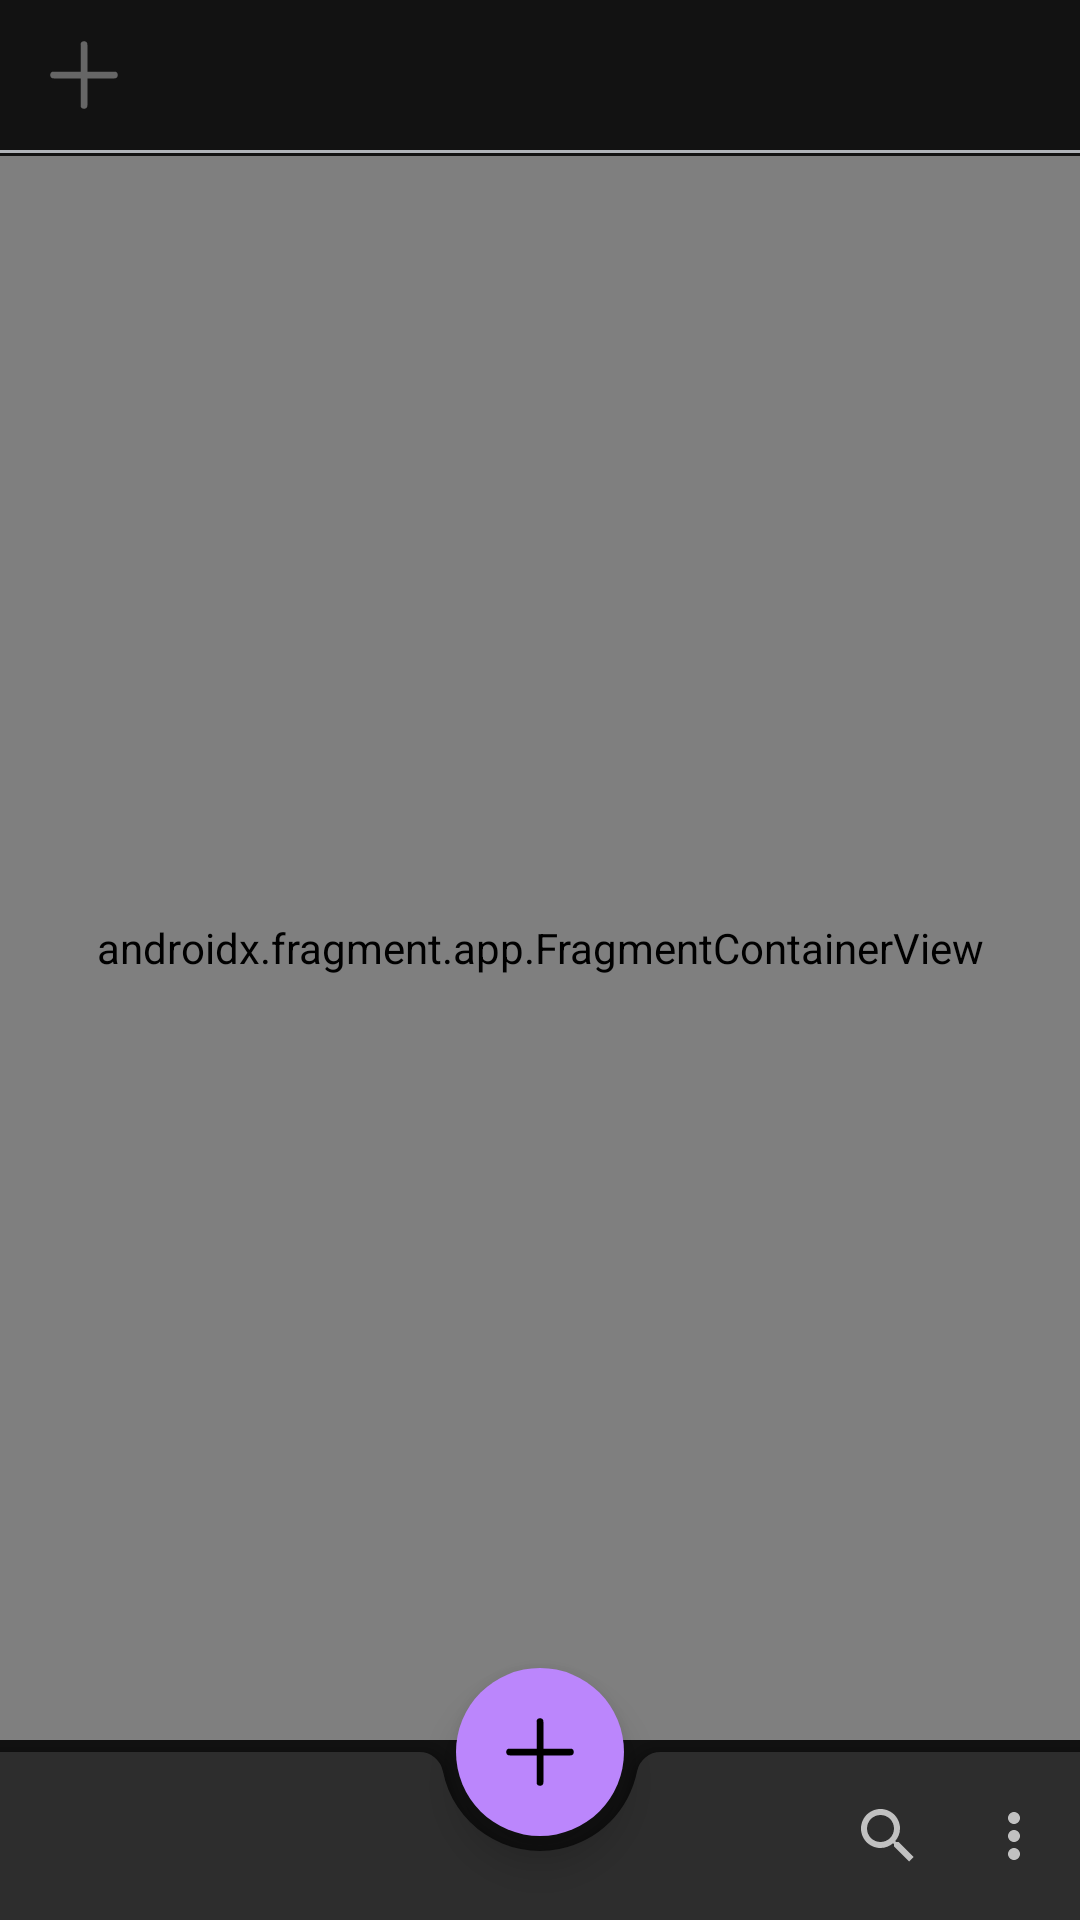

Named icons in this screenshot (1080w x 1920h) and their centers, (x,y):
add fab: (540,1752)
add more category: (84,75)
